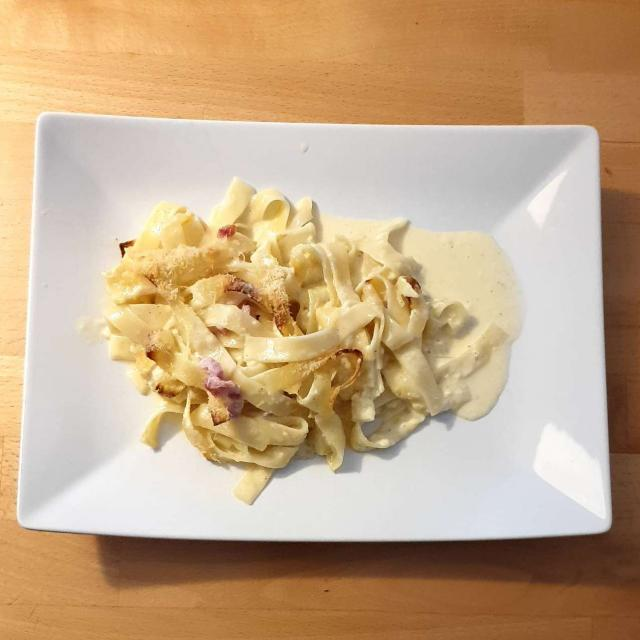cream: (324, 210, 522, 421)
ham-cooked: (207, 352, 242, 421)
pasta-noodles: (98, 182, 510, 512)
